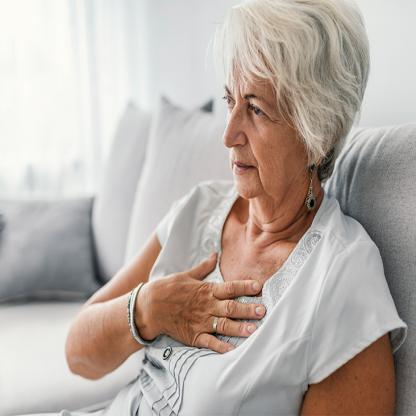pain: (219, 80, 274, 126)
